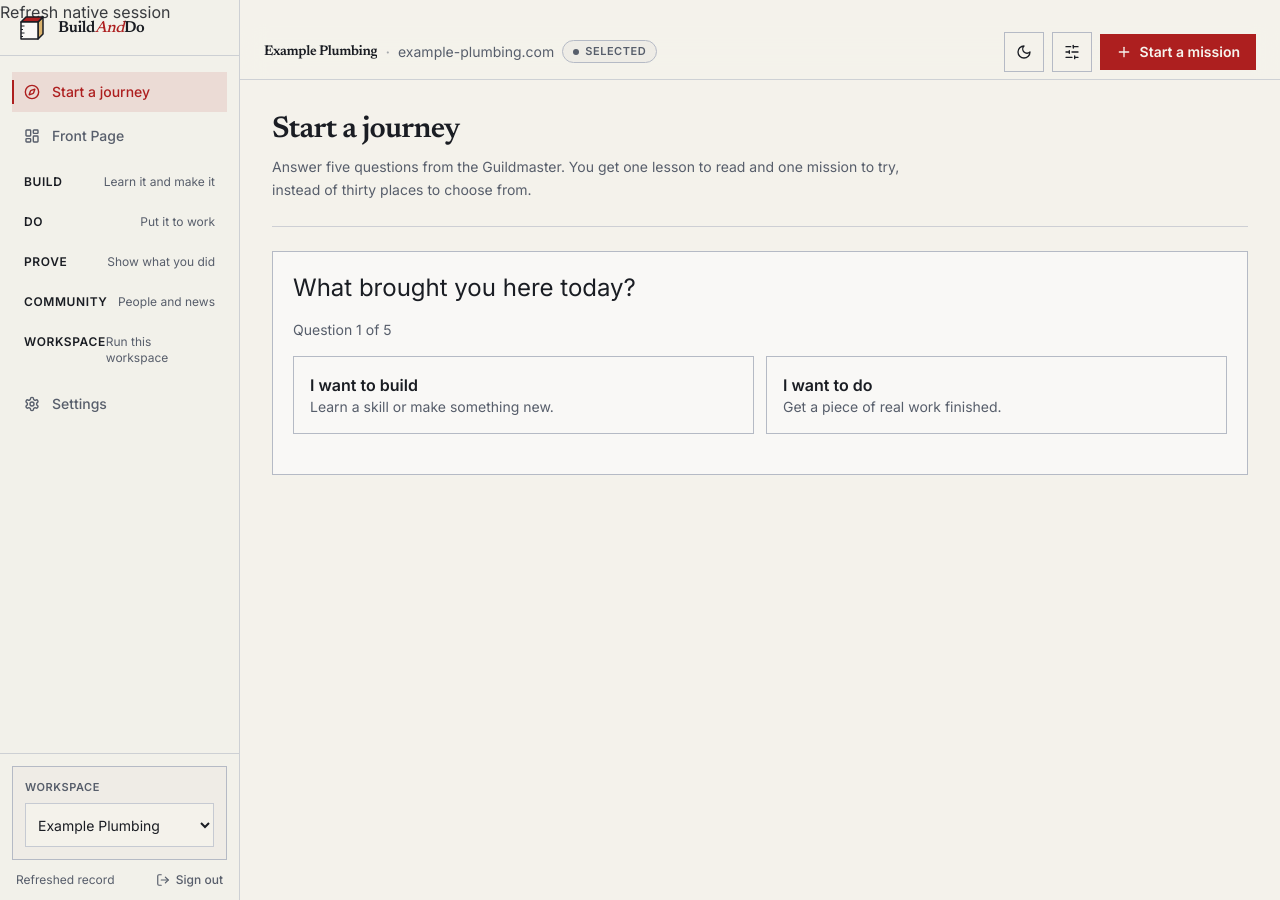
Test: journey › clears drafts when logout and same-account login are batched into one ready render
This screenshot has width=1280, height=900.
Expected: the text "Question 1 of 5" is shown, [293,320,392,338]
Click the button "I want to do Get a piece of real work finished.".
click(996, 394)  # box [766,356,1227,434]
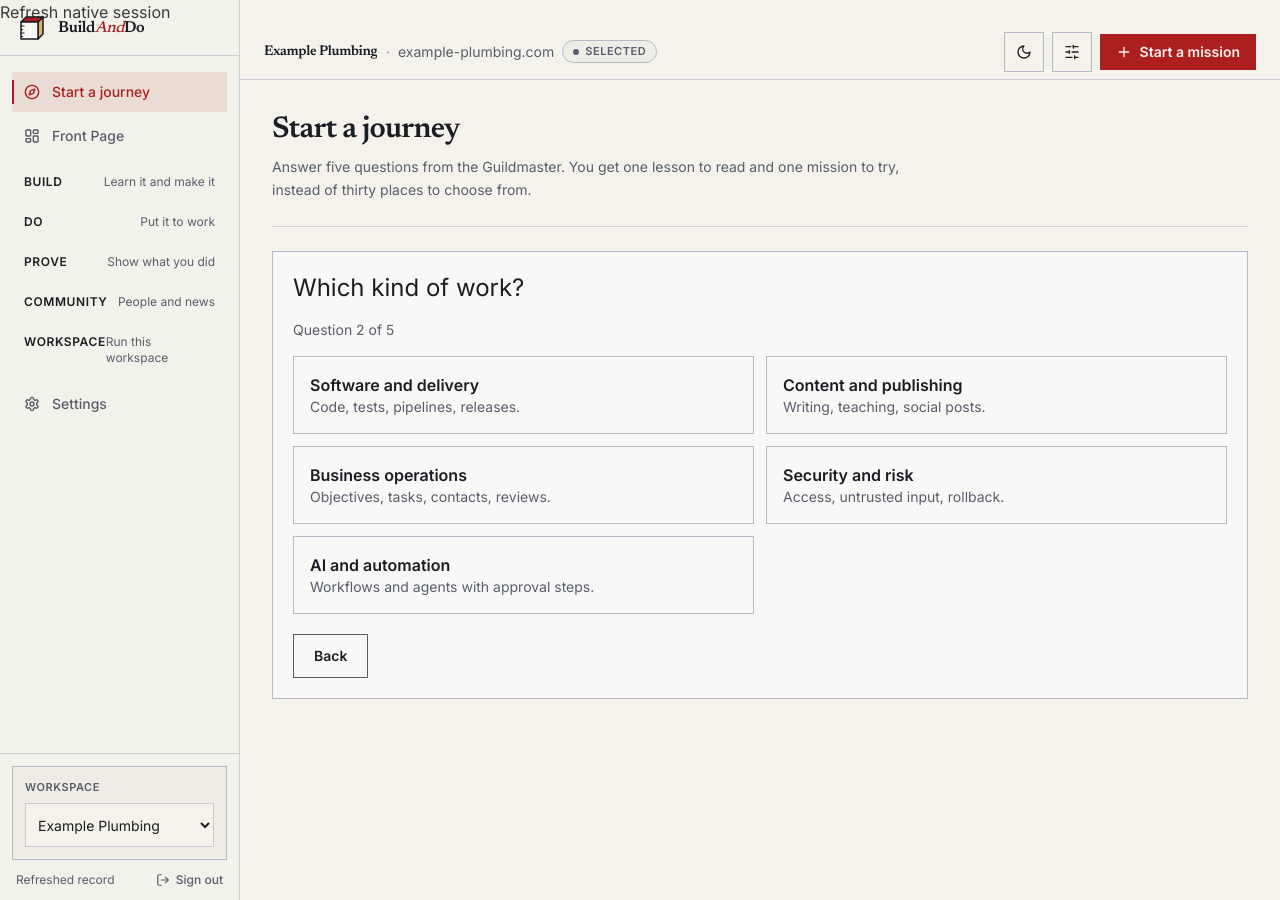
Click the button "Software and delivery Code, tests, pipelines, releases.".
click(395, 384)  # box [293,356,754,434]
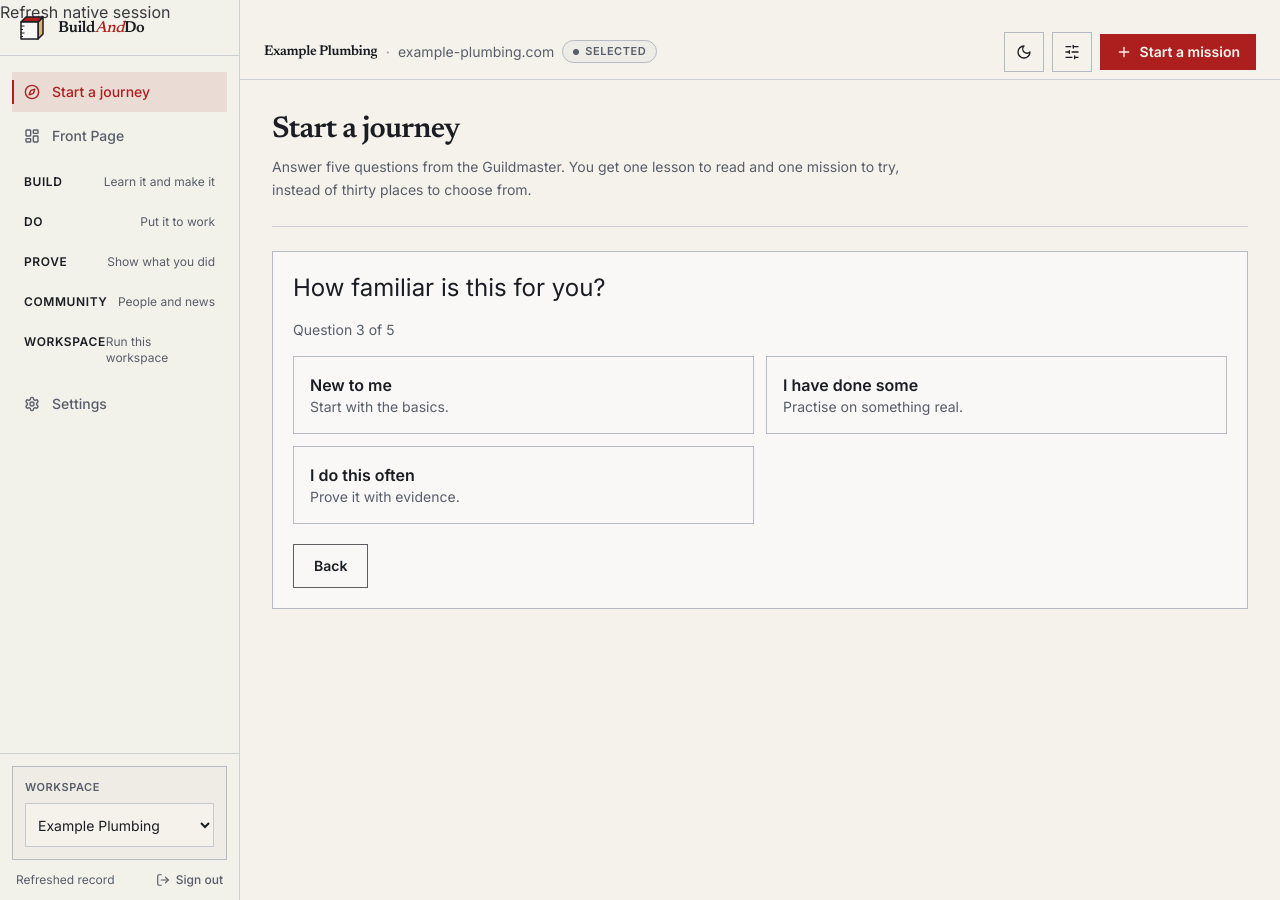
Click the button "I have done some Practise on something real.".
click(851, 384)  # box [766,356,1227,434]
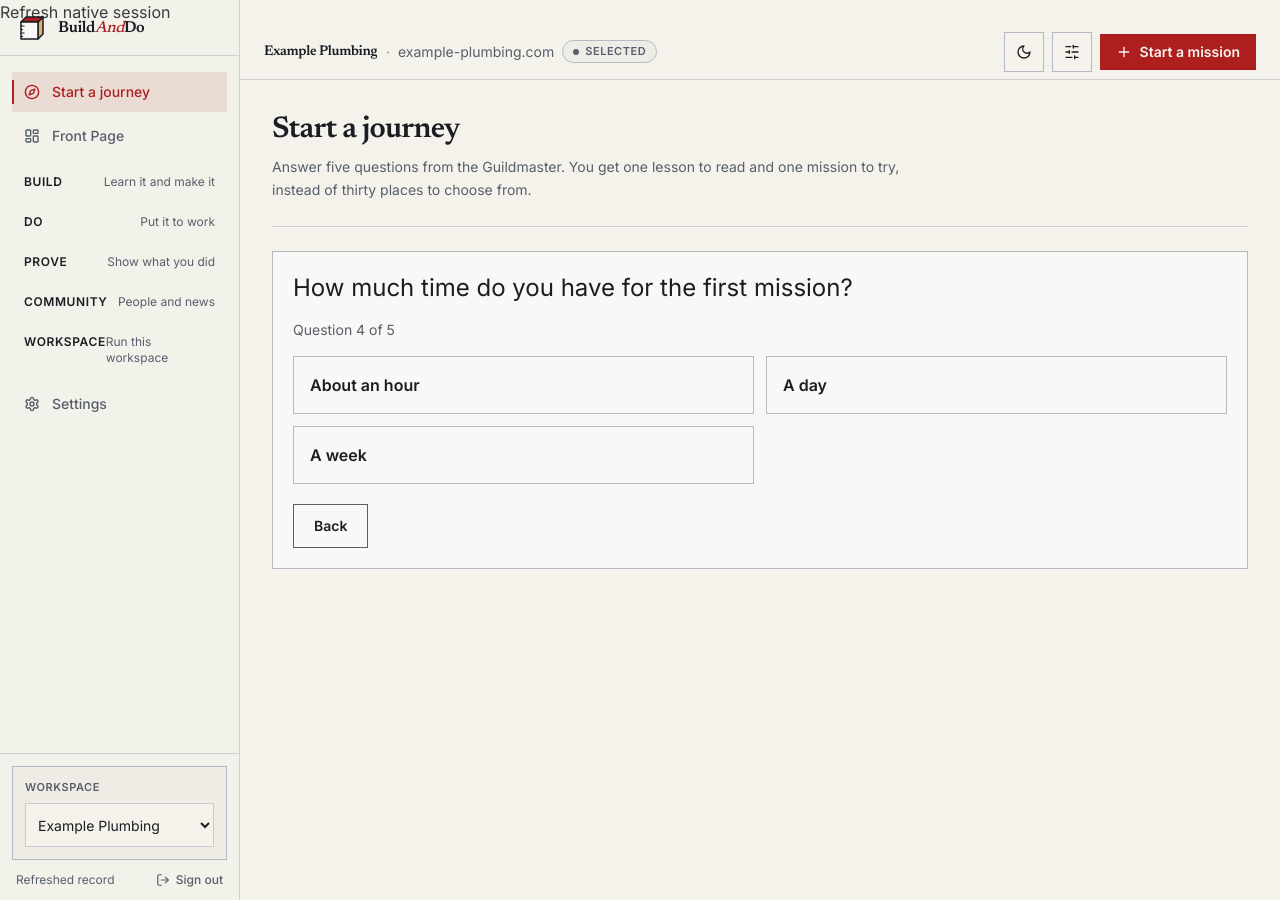
Click the button "A day".
click(805, 384)  # box [766,356,1227,414]
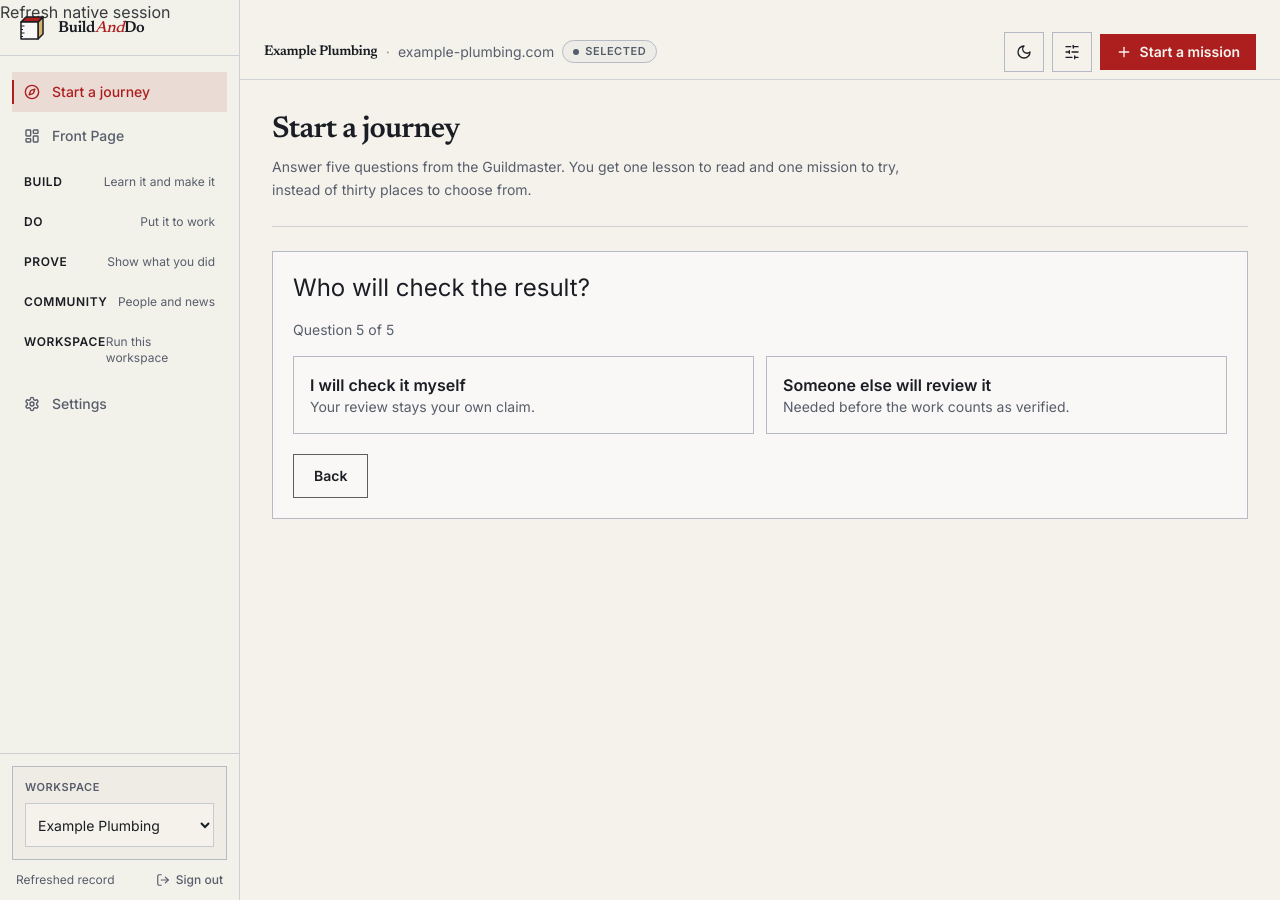
Click the button "Someone else will review it".
click(996, 394)  # box [766,356,1227,434]
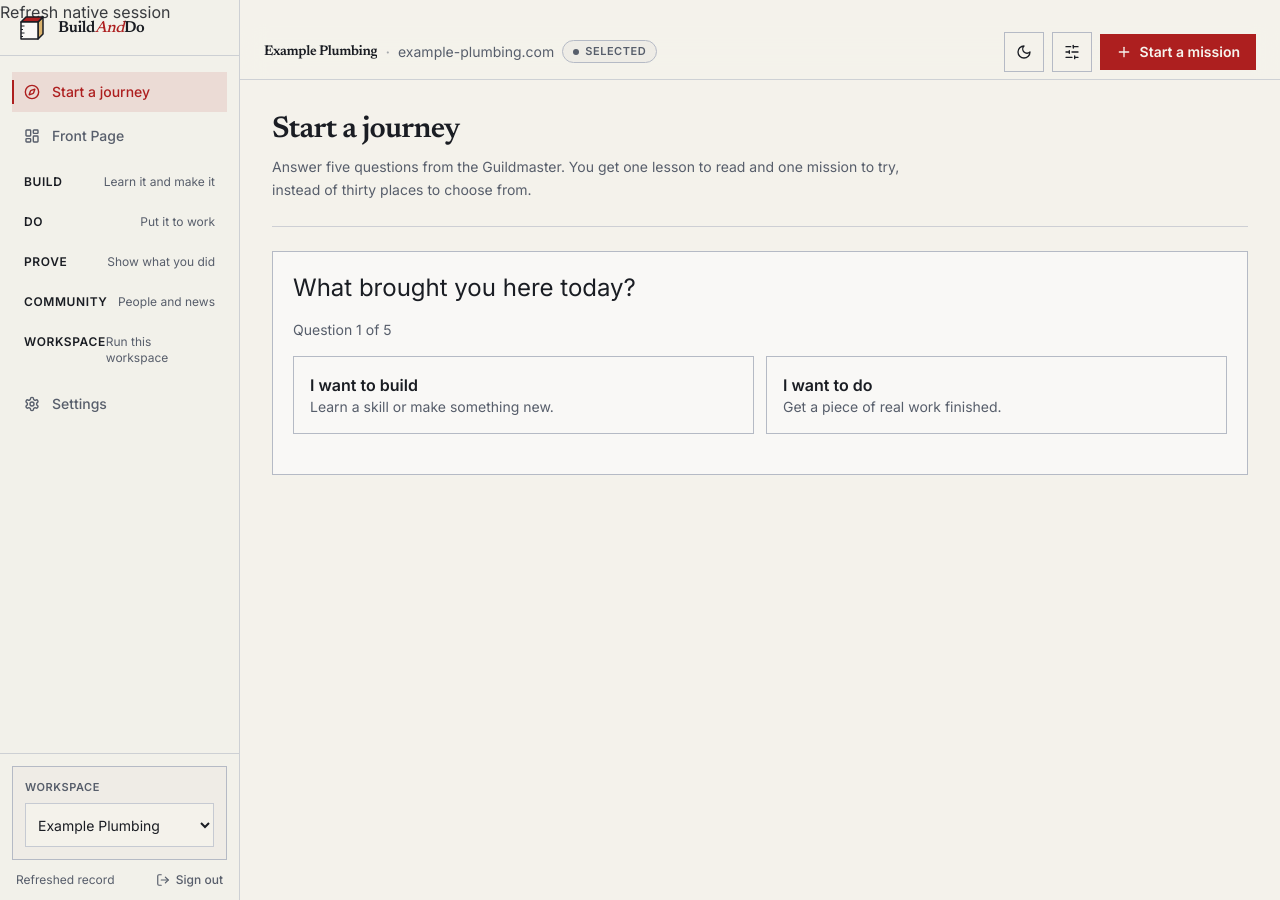
Expected: the text "Question 1 of 5" is shown, [293,320,392,338]
